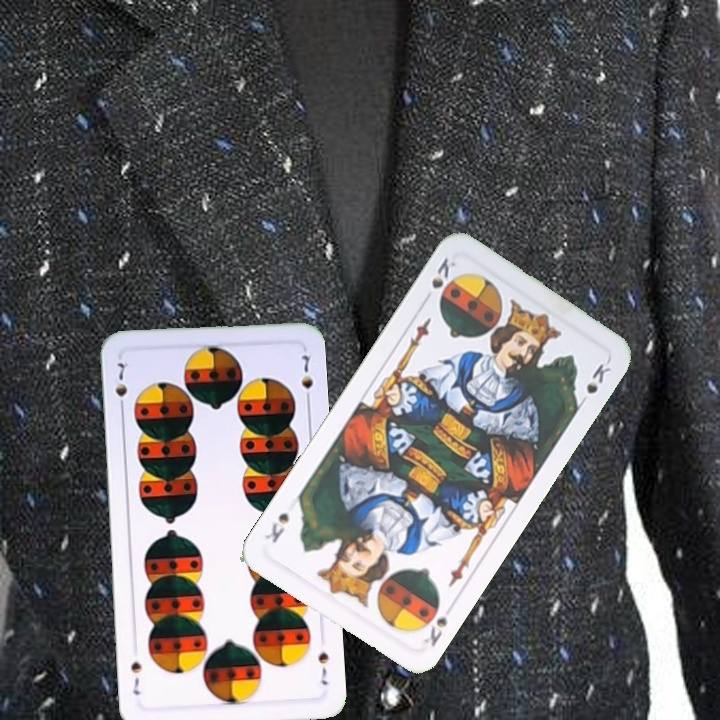S7: (111, 358, 132, 414), (314, 647, 331, 688)
SK: (427, 253, 459, 303), (419, 613, 450, 650)
